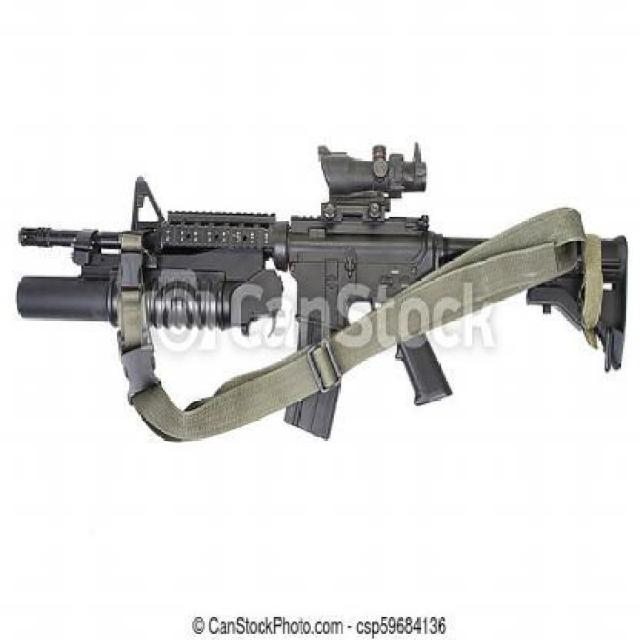weapon: (13, 137, 638, 460)
